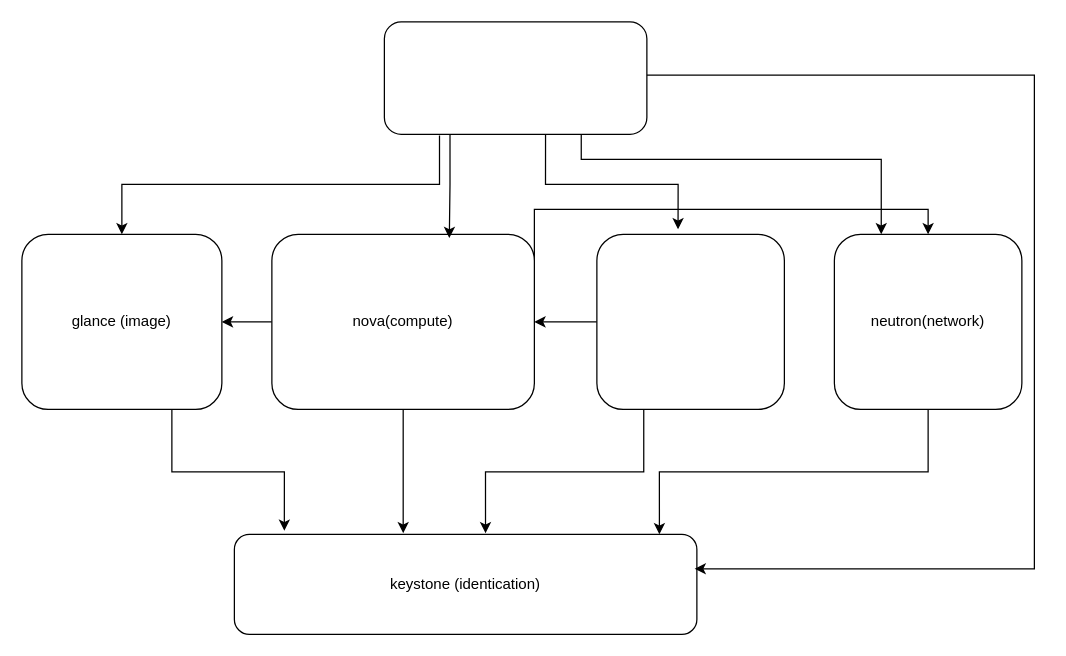
The diagram is 1066 pixels wide and 656 high, and some of its shapes have lost their labels. The shapes that lost their labels are listed below. From the top down, each one's box as (x1, y1, x2, y2) in pixels, then its label:
(383, 21, 647, 134): horizon(dashboard)
(596, 233, 784, 409): cinder(block storage)
